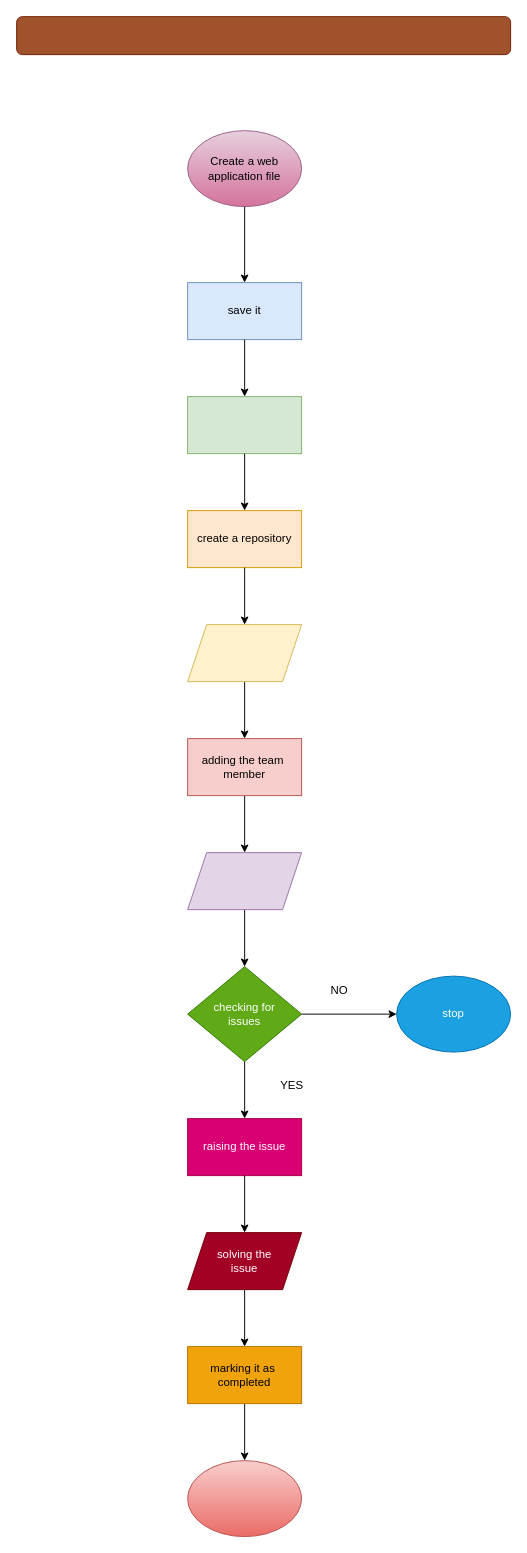
Image size: 527x1553. Some labels were removed from this diagram. The box of each missing label's shape, as (x1, y1, x2, y2) in pixels:
collaborate with the team: (187, 624, 302, 682)
end: (187, 1460, 302, 1537)
LIFE CYCLE OF A WEB APPLICATION: (16, 16, 511, 55)
sign into the github: (187, 396, 302, 454)
uploading the file in repo: (187, 852, 302, 910)
